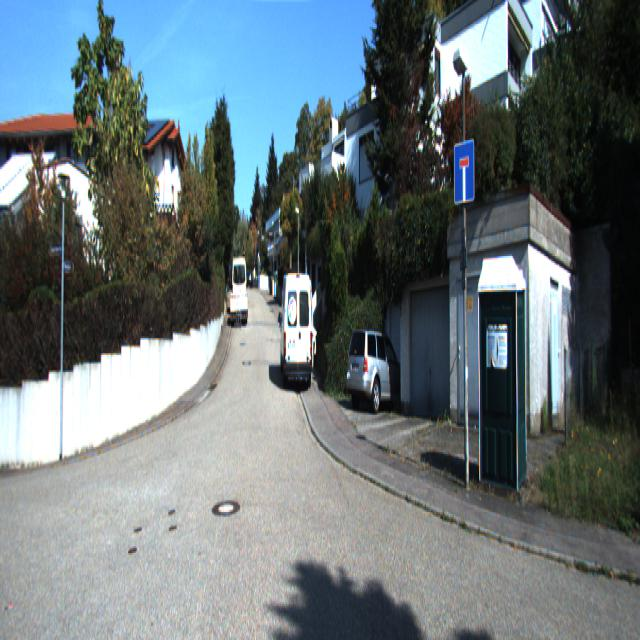Car: (344, 324, 412, 412), (279, 267, 315, 390), (232, 255, 247, 315), (229, 296, 248, 325)
